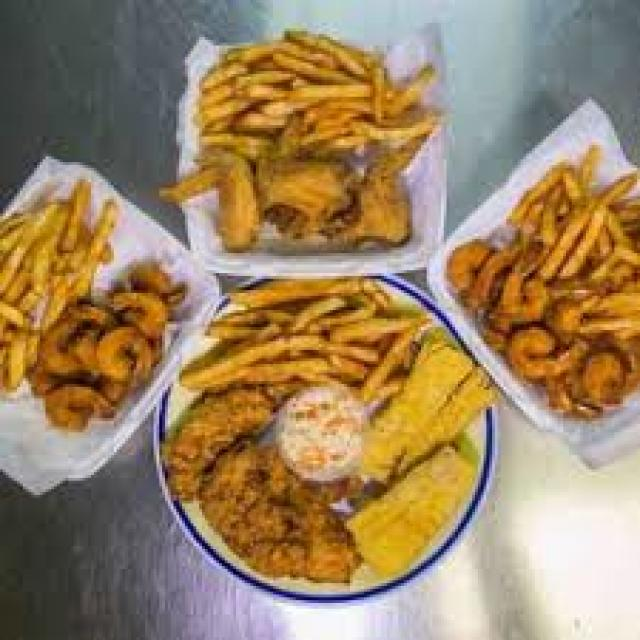Chicken Wings: (174, 378, 361, 594), (154, 154, 438, 248)
French Fries: (185, 23, 444, 156), (182, 270, 412, 384), (498, 136, 637, 278), (3, 164, 78, 375)
Onion Rings: (441, 228, 626, 421), (42, 265, 170, 438)
